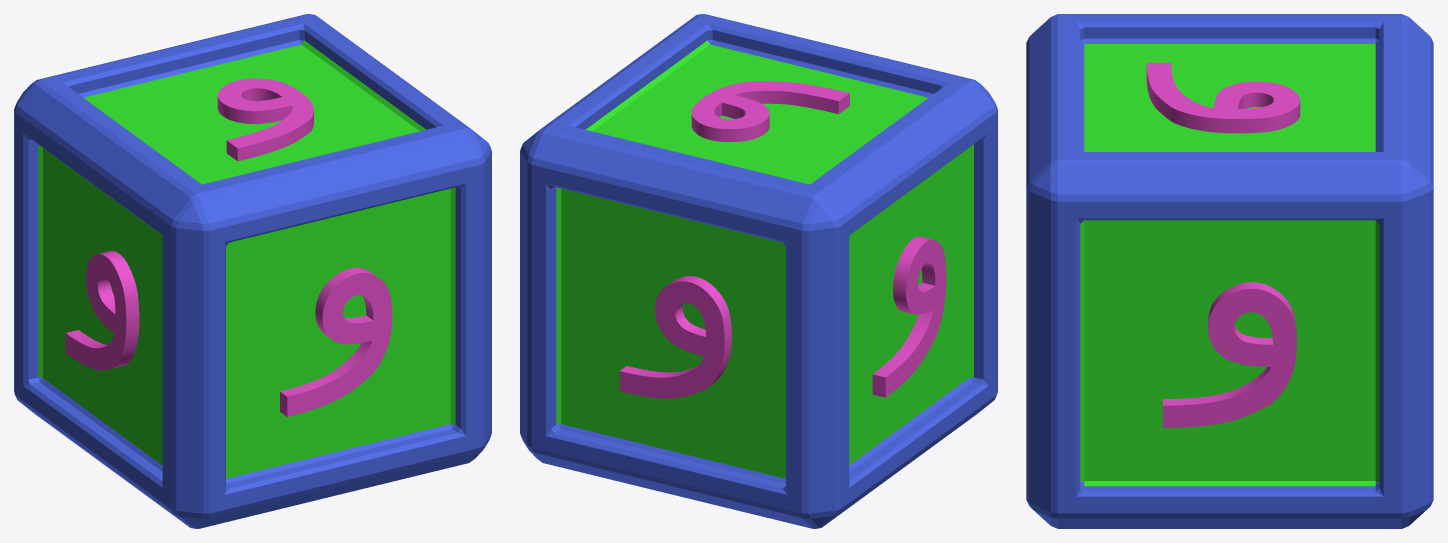
3 renders of one model, left to right at view 1: azimuth 30°, elevation 25°; view 2: azimuth 150°, elevation 25°; view 3: azimuth 270°, elevation 25°, orthographic. The views are drawn at different scales.
Visible parts, largest first — view 1: Text.012; view 2: Text.012; view 3: Text.012.
Boxes of the visible parts, x1,y1,x2,y2 form: Text.012: [14, 14, 491, 528]; Text.012: [520, 14, 997, 528]; Text.012: [1026, 14, 1433, 528].
Size of the model in its own units: 15 by 15 by 15.
